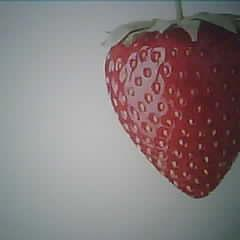straw-ripe: (105, 21, 240, 198)
